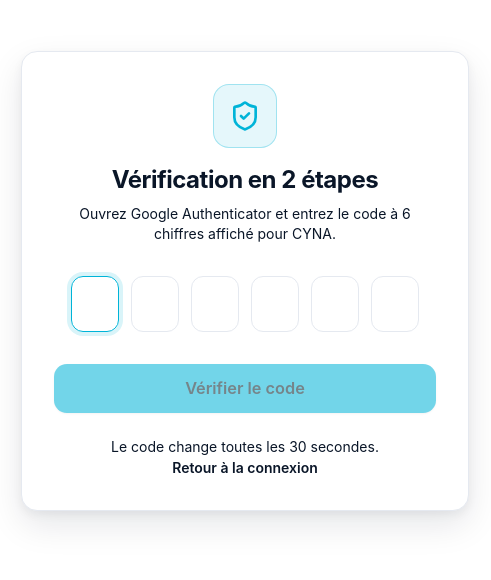
Test: code incomplet › affiche une erreur si on soumet avec moins de 6 chiffres
Type "1" into the 1st field.
click(95, 304); type("1")  # box [71,276,119,332]
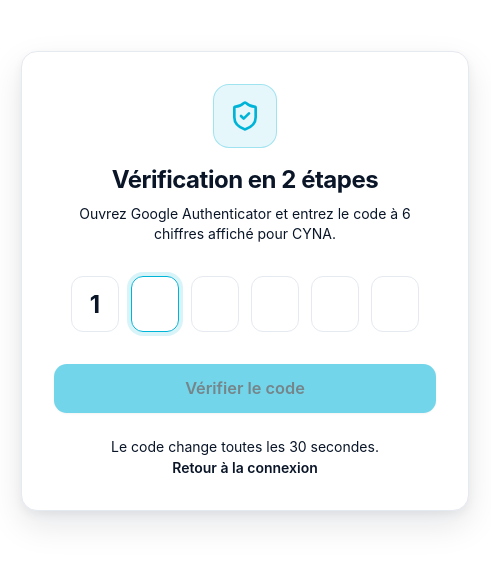
Type "2" into the 2nd field.
click(155, 304); type("2")  # box [131,276,179,332]
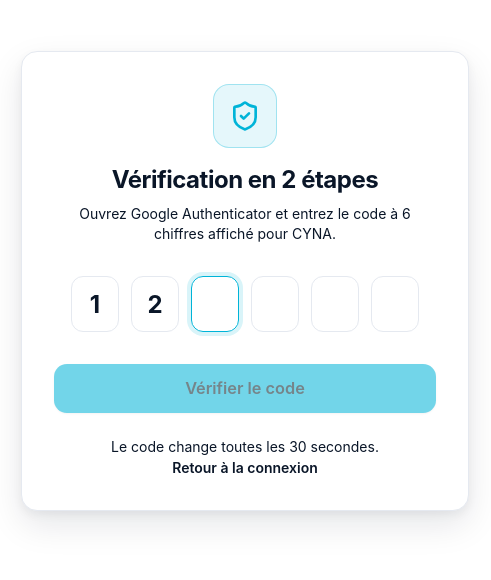
Type "3" into the 3rd field.
click(215, 304); type("3")  # box [191,276,239,332]
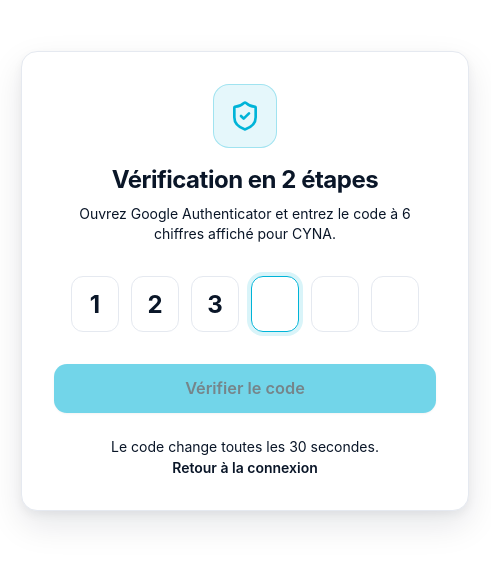
Submit the form "Vérifier le code", box [54,276,436,413]
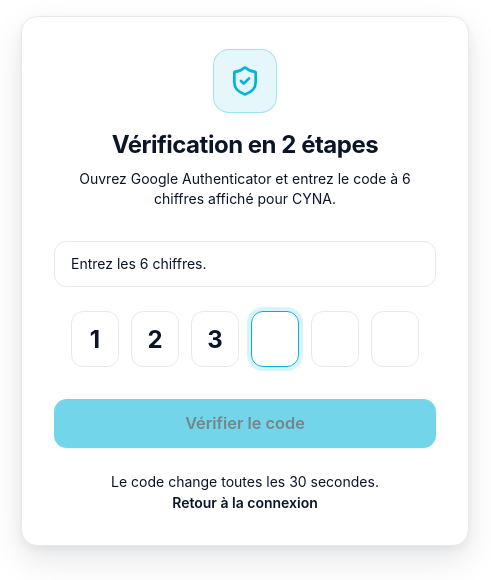
Result: the text "Entrez les 6 chiffres." is shown at [54,241,436,287]
